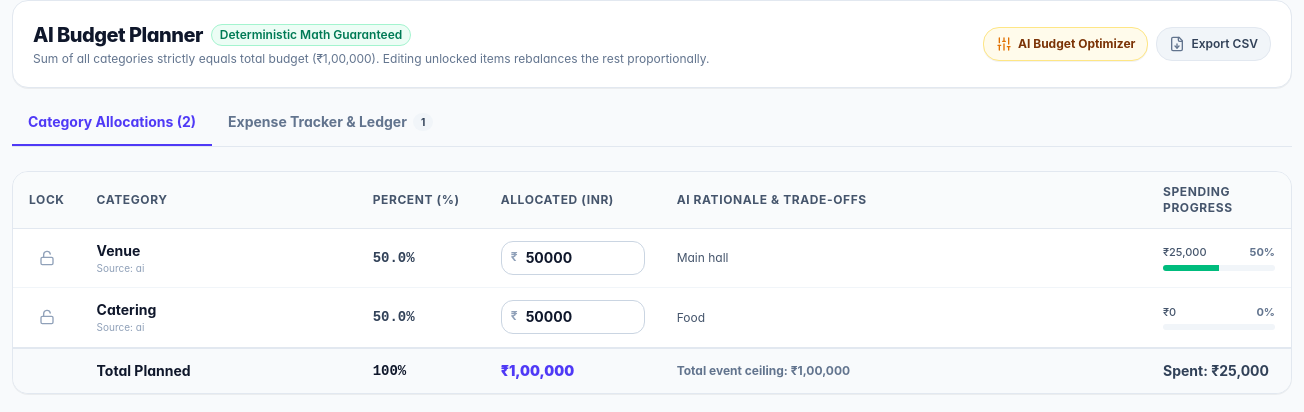
Test: BudgetView Component › should display expenses in the table
What coordinates should you click on to do the following:
click the text "Expense Tracker & Ledger"
I would click on:
 (318, 122)
Its box is x1=228 y1=112 x2=407 y2=132.
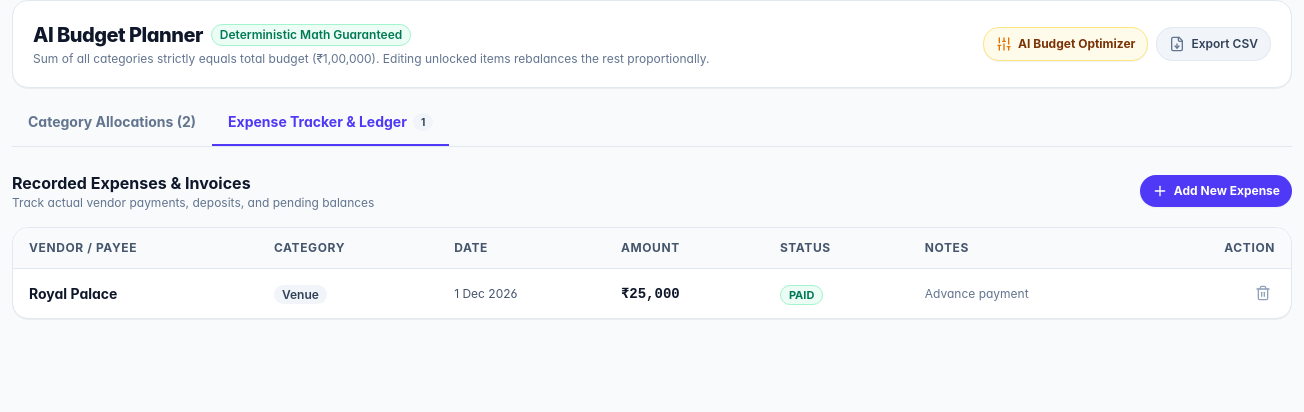
Expected: the text "₹25,000" is shown, x1=605 y1=268 x2=764 y2=318
Now the text "Royal Palace" is shown, box x1=13 y1=268 x2=258 y2=318
Now the text "PAID" is shown, box x1=780 y1=284 x2=823 y2=304
